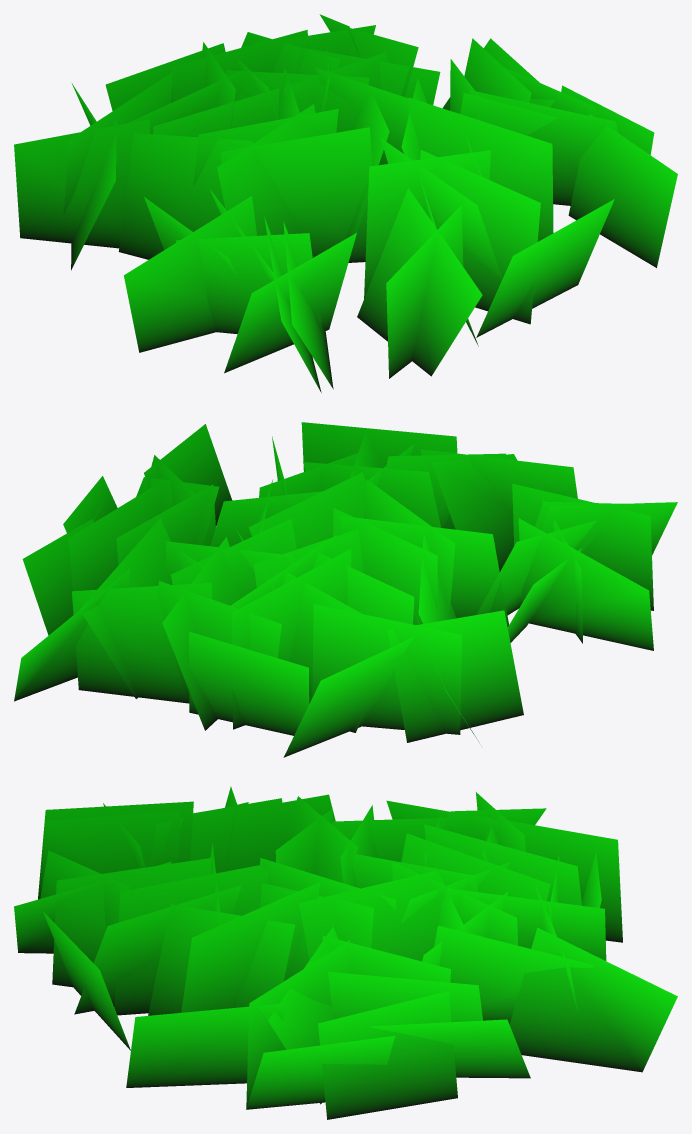
Rendered from Grass Mesh.fbx.
The picture shows the model from 3 angles, top to bottom: view 1: azimuth 30°, elevation 25°; view 2: azimuth 150°, elevation 25°; view 3: azimuth 270°, elevation 25°; orthographic projection. The views are drawn at different scales.
Parts seen in each view (by area): view 1: IL3DN_Plant_Grass_01_LOD0; view 2: IL3DN_Plant_Grass_01_LOD0; view 3: IL3DN_Plant_Grass_01_LOD0.
Part boxes in pixels (x1,y1,x2,y2): IL3DN_Plant_Grass_01_LOD0: (14, 14, 677, 392); IL3DN_Plant_Grass_01_LOD0: (14, 422, 677, 757); IL3DN_Plant_Grass_01_LOD0: (14, 786, 677, 1119).
Size of the model in its own units: 1.71 by 0.4112 by 1.82.
